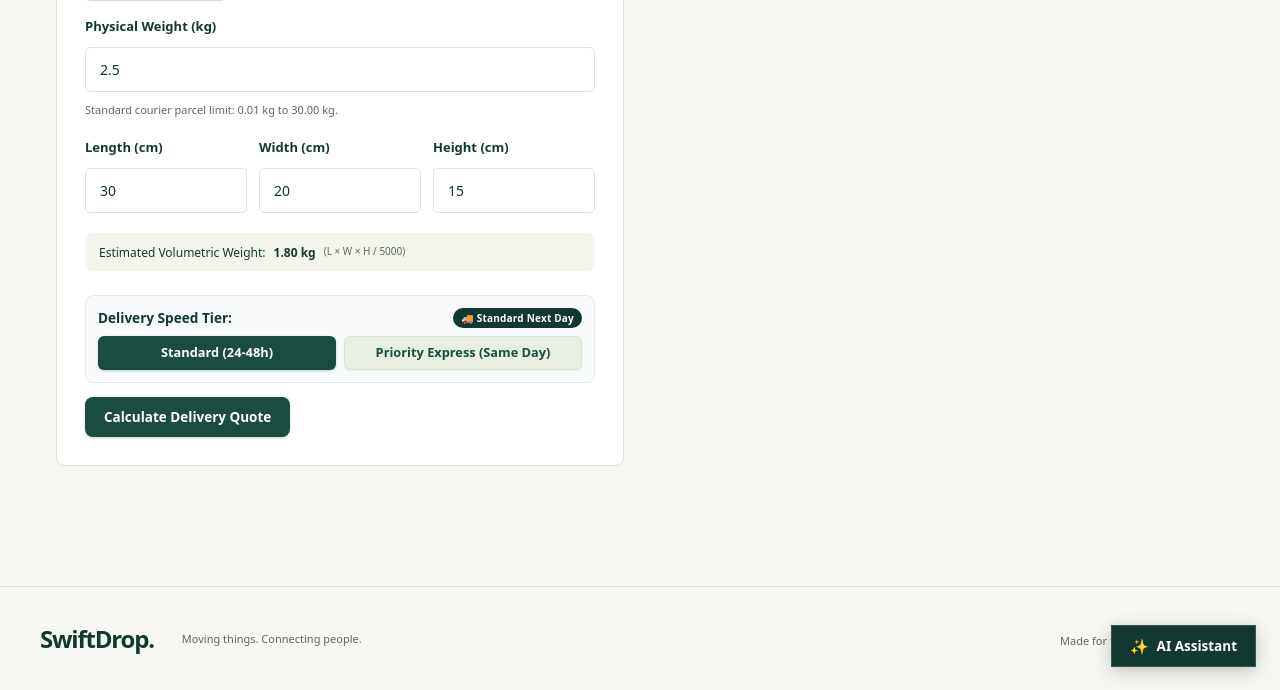
Test: CustomerQuotePage & Booking Workflow (Issue #118) › calculates quote, displays guaranteed price breakdown, and shows live timer
(page scrolled)
Click the button "Calculate Delivery Quote" at coordinates (188, 417), box [85,397,290,437]
(page scrolled)
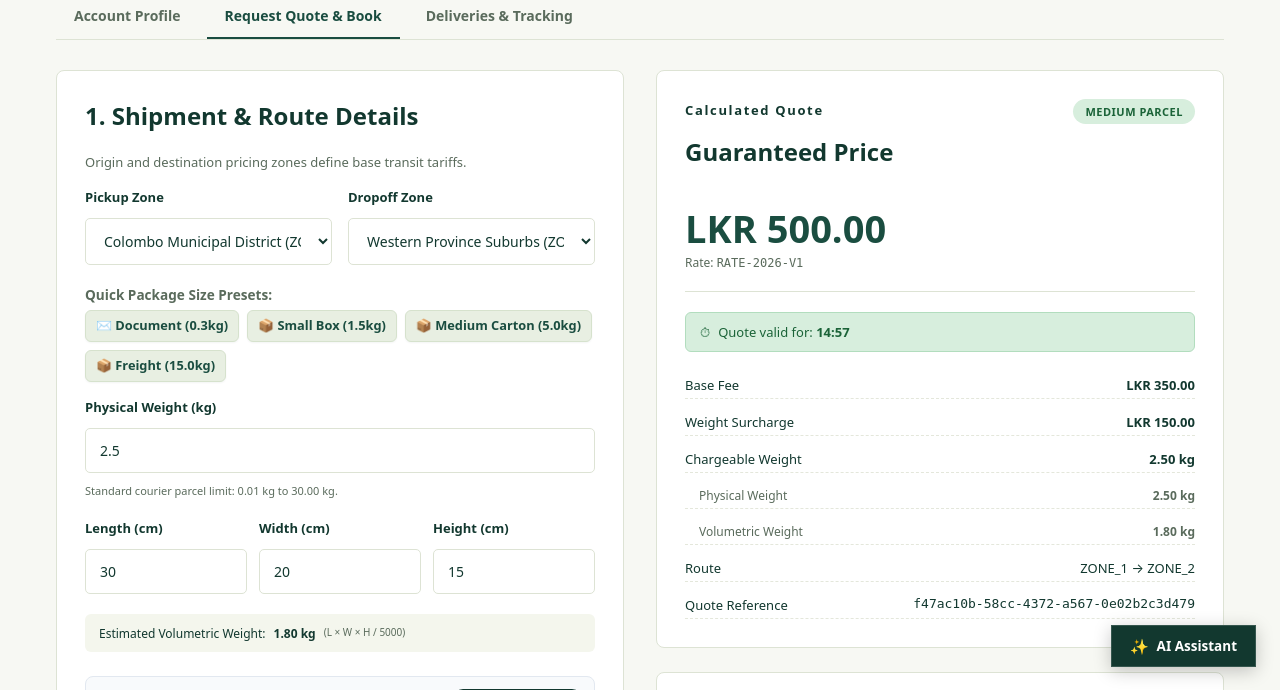
expect the heading "Guaranteed Price" is shown: met, box [685,135,893,168]
expect the text "LKR 500.00" is shown: met, box [685,202,886,254]
expect the text "LKR 350.00" is shown: met, box [1126,376,1195,394]
